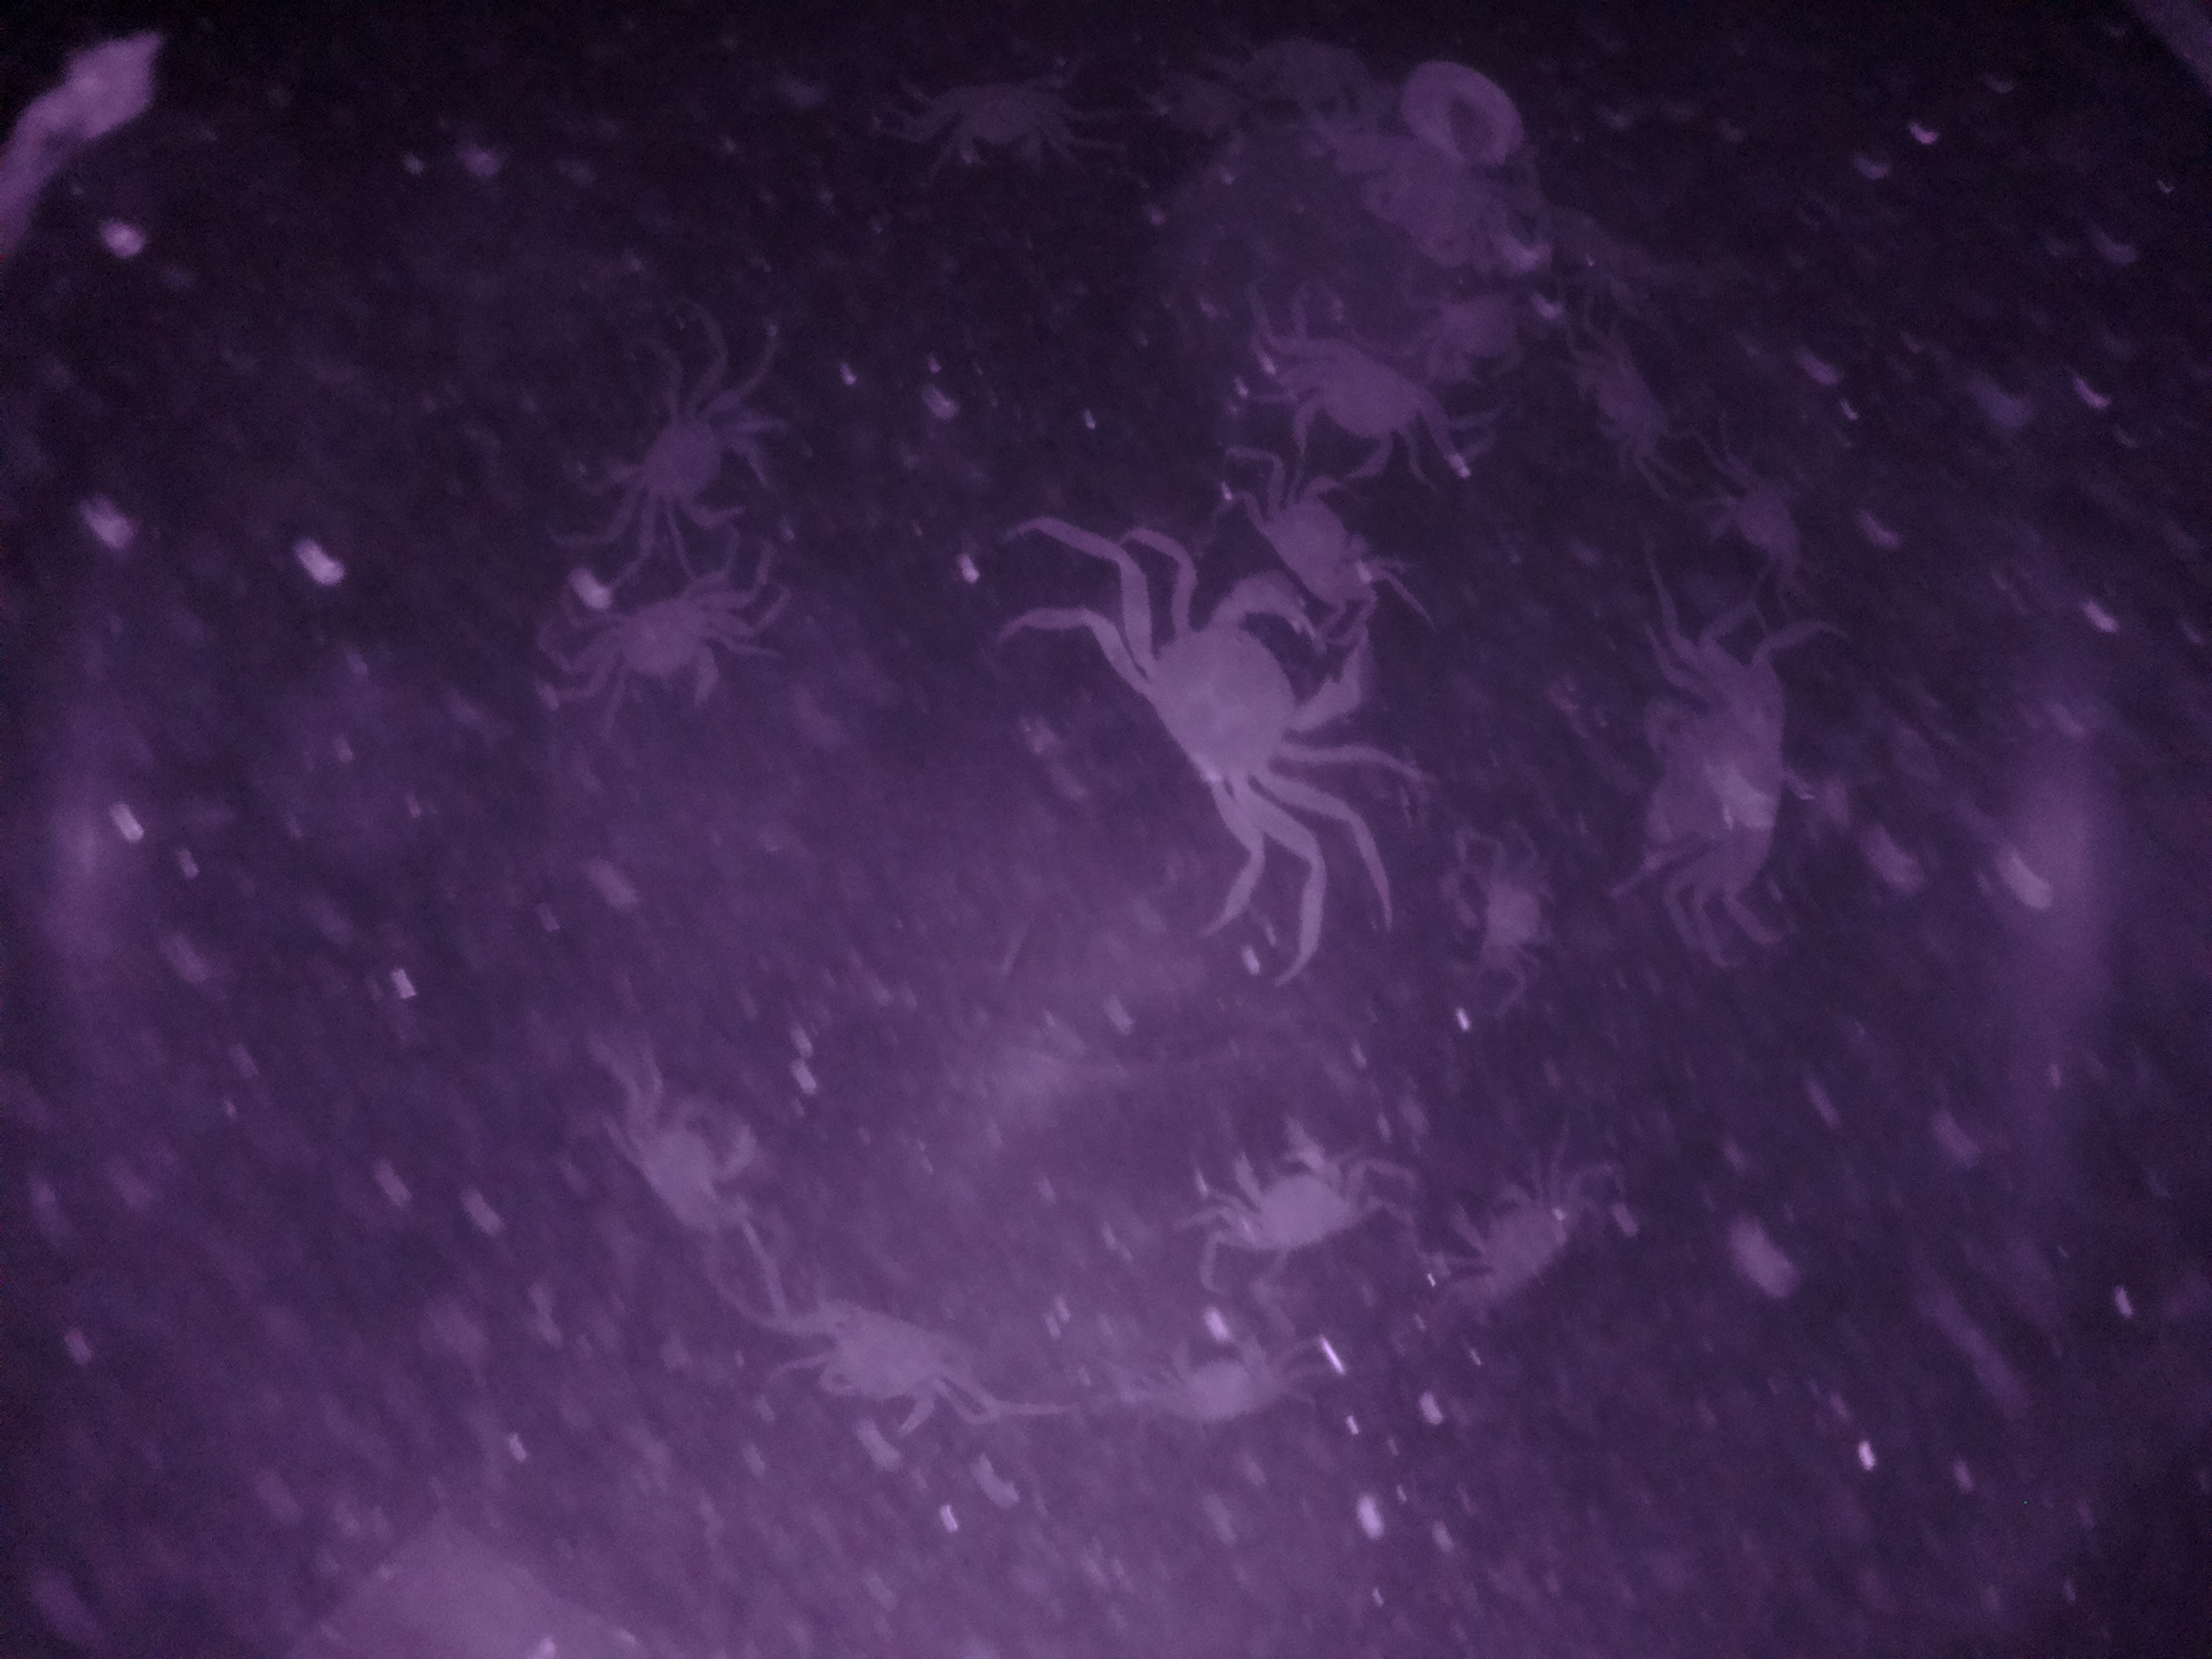Crab: (1078, 577, 1383, 831), (1616, 636, 1818, 904), (1252, 324, 1467, 490), (596, 383, 779, 544), (566, 584, 756, 735)
